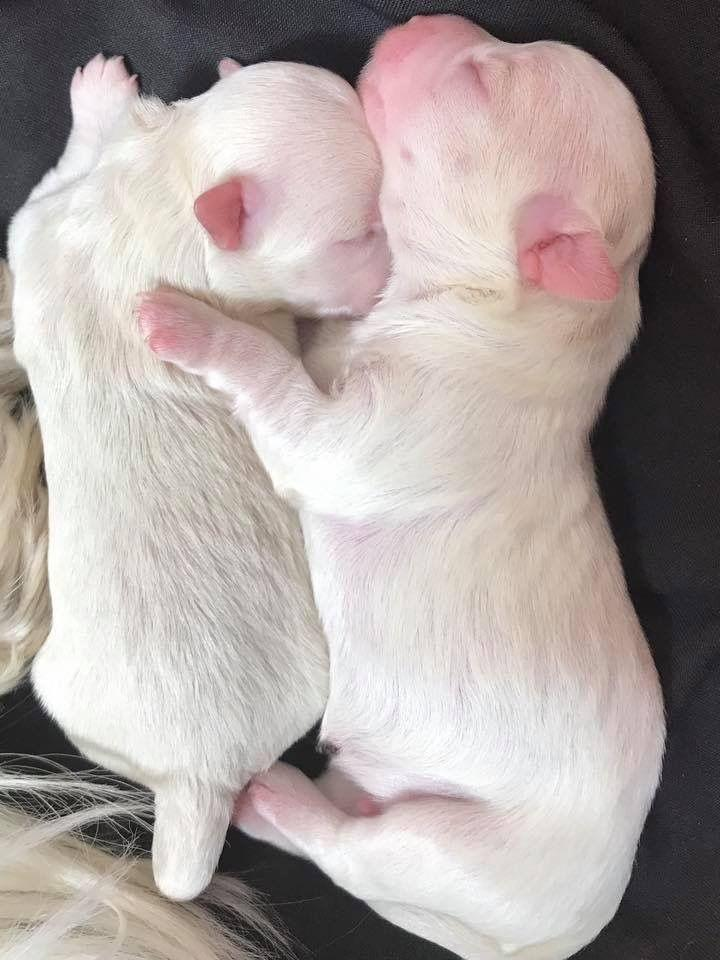puppy-dog: (139, 13, 669, 960), (6, 51, 393, 903)
